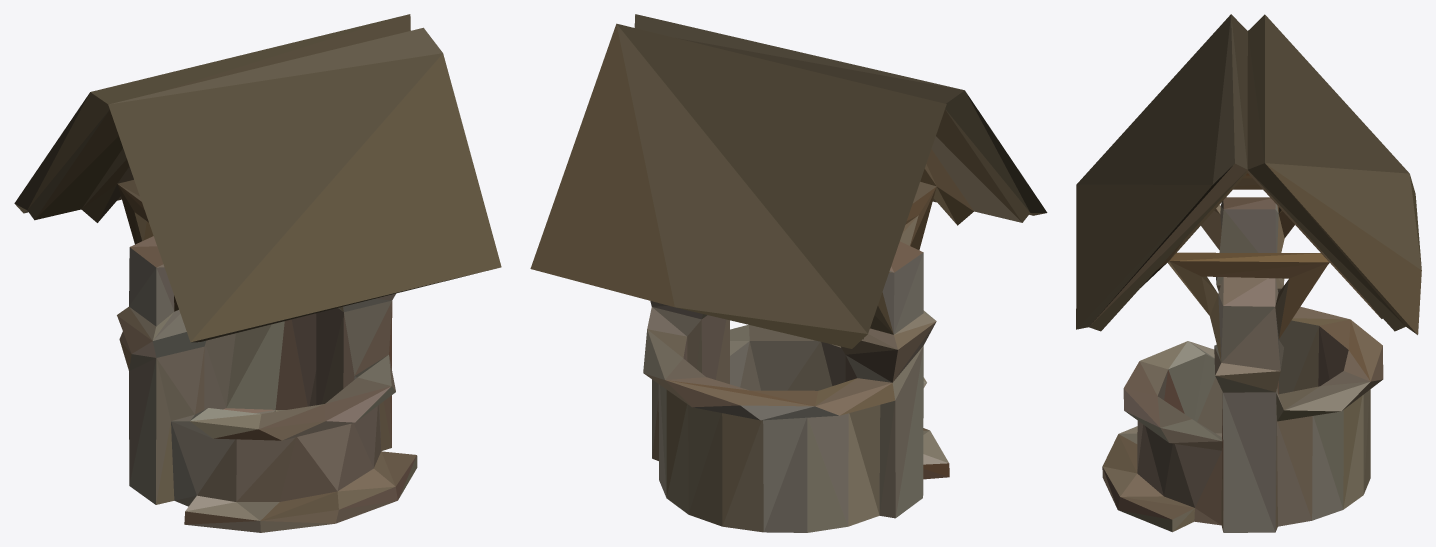
The model's file is Prop-Well.fbx.
3 views of the same model, side by side, from view 1: azimuth 30°, elevation 25°; view 2: azimuth 150°, elevation 25°; view 3: azimuth 270°, elevation 25° (orthographic). The views are drawn at different scales.
Parts seen in each view (by area): view 1: Prop-Well; view 2: Prop-Well; view 3: Prop-Well.
Boxes of the visible parts, x1=… form: Prop-Well: x1=14, y1=14, x2=501, y2=532; Prop-Well: x1=530, y1=14, x2=1047, y2=532; Prop-Well: x1=1076, y1=14, x2=1421, y2=532.
Bounding box in the file's own units: 377 × 453 × 364.
